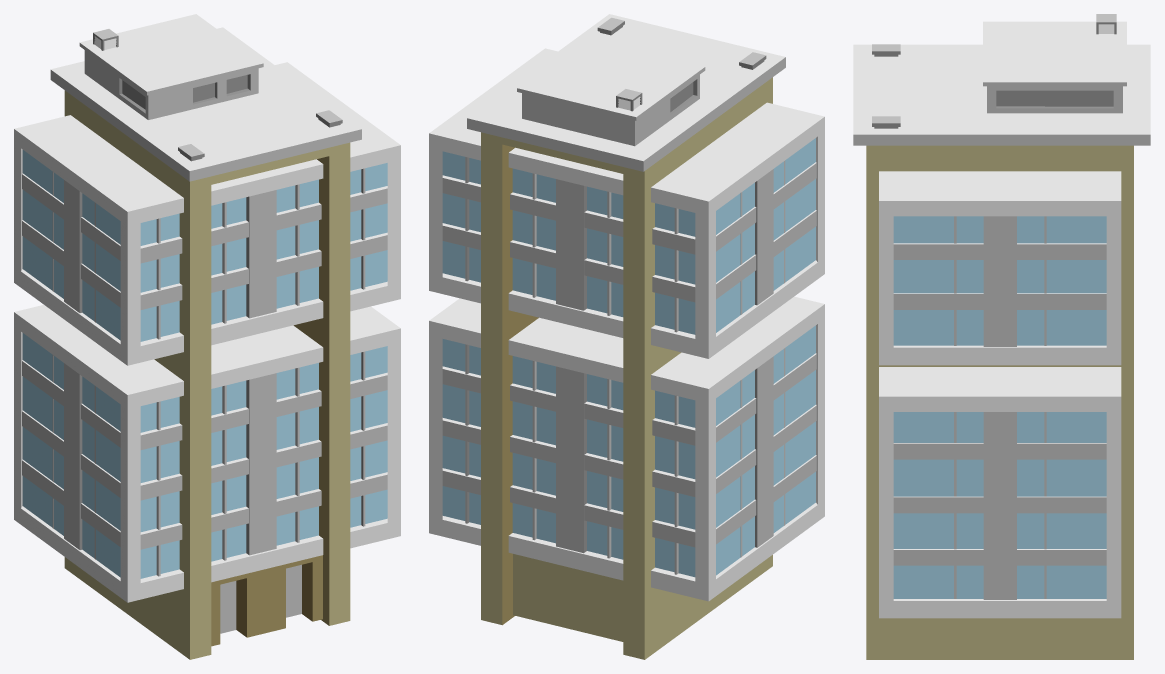
Rendered from house_high_010.fbx.
3 renders of one model, left to right at view 1: azimuth 30°, elevation 25°; view 2: azimuth 150°, elevation 25°; view 3: azimuth 270°, elevation 25°, orthographic. The views are drawn at different scales.
Visible parts, largest first — view 1: house_high_010; view 2: house_high_010; view 3: house_high_010.
Boxes of the visible parts, <box> form: house_high_010: <box>14,14,400,659</box>; house_high_010: <box>429,14,824,659</box>; house_high_010: <box>853,14,1150,659</box>.
Bounding box in the file's own units: 1340 × 2513 × 1181.
